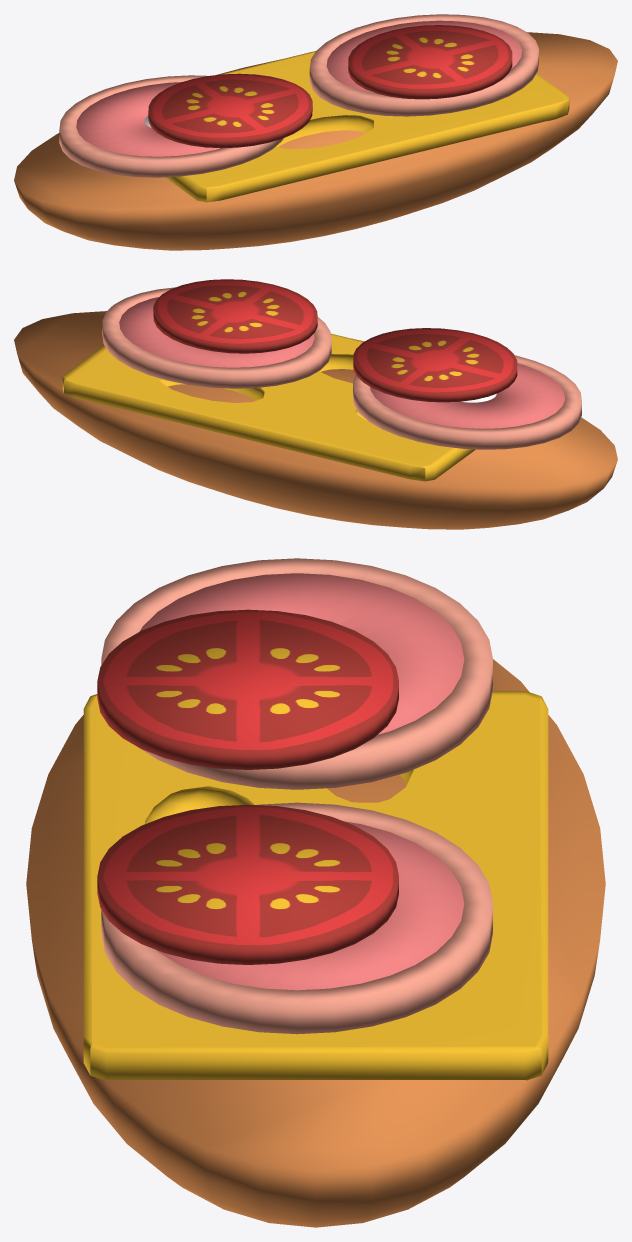
The model's file is kanapka.gltf.
3 views of the same model, one above another, from view 1: azimuth 30°, elevation 25°; view 2: azimuth 150°, elevation 25°; view 3: azimuth 270°, elevation 25° (orthographic). The views are drawn at different scales.
Parts seen in each view (by area): view 1: Sphere, Cube.002, Sphere.004, Circle, Circle.001, Sphere.003; view 2: Sphere, Cube.002, Sphere.004, Sphere.003, Circle, Circle.001; view 3: Sphere, Cube.002, Circle.001, Circle, Sphere.003, Sphere.004.
Part boxes in pixels (x1,y1,x2,y2): Sphere: [14, 32, 617, 250]; Cube.002: [165, 51, 569, 202]; Sphere.004: [59, 75, 283, 177]; Circle: [348, 25, 512, 99]; Circle.001: [148, 73, 312, 148]; Sphere.003: [309, 14, 538, 116]; Sphere: [14, 311, 617, 529]; Cube.002: [62, 333, 475, 481]; Sphere.004: [353, 355, 581, 449]; Sphere.003: [102, 287, 331, 388]; Circle: [153, 279, 317, 353]; Circle.001: [353, 328, 517, 402]; Sphere: [26, 659, 605, 1227]; Cube.002: [83, 691, 548, 1080]; Circle.001: [97, 609, 398, 769]; Circle: [97, 804, 398, 964]; Sphere.003: [101, 802, 492, 1034]; Sphere.004: [101, 558, 492, 789].
Size of the model in its own units: 0.2883 by 0.0687 by 0.1233.
6 materials, 6 textured.
